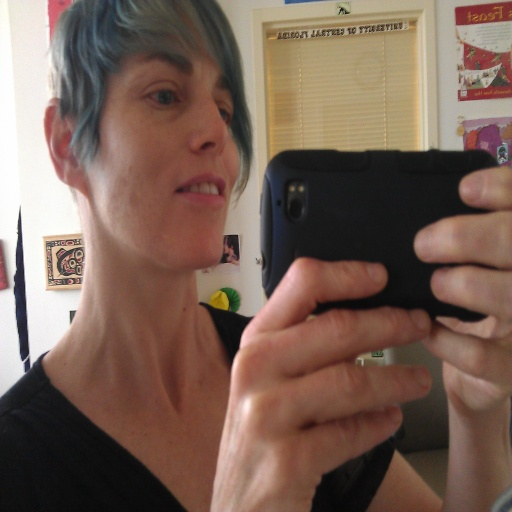hand: (216, 259, 432, 498), (412, 165, 511, 418)
